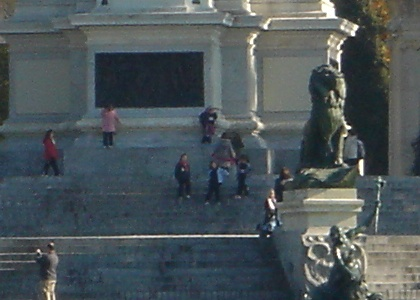person: (97, 100, 120, 147)
